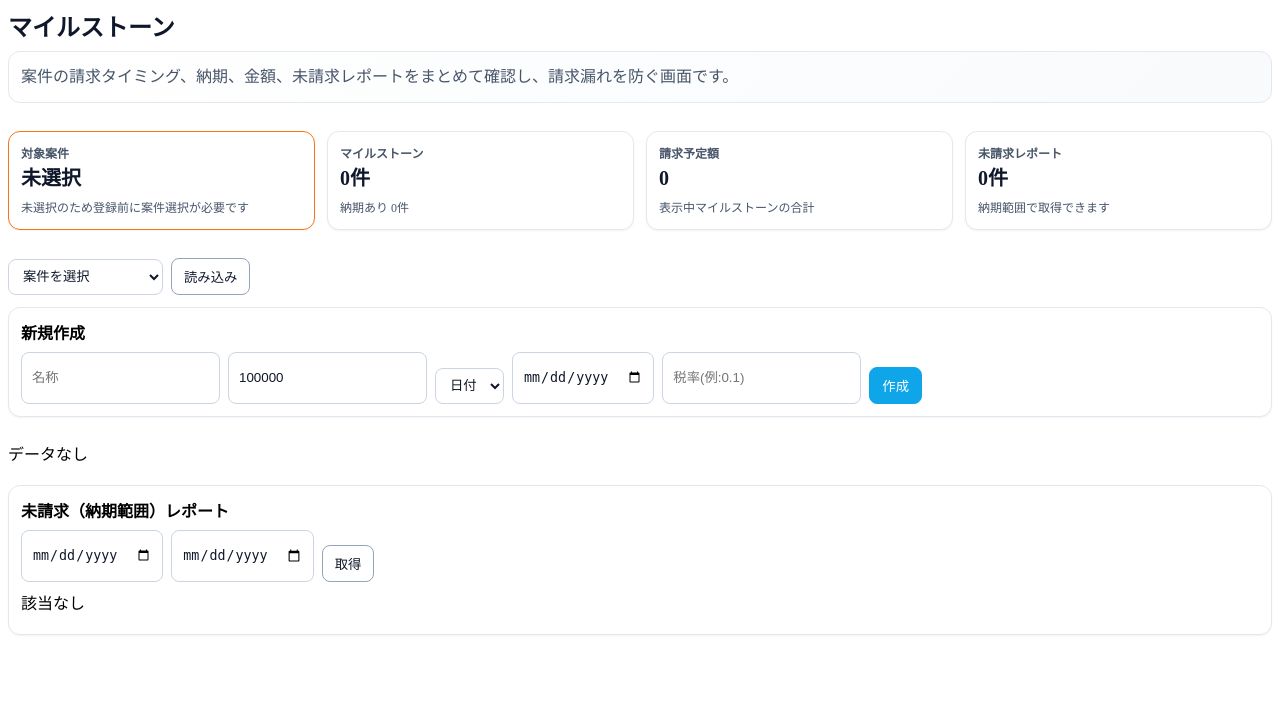
ProjectMilestones › validates required fields before save
The width and height of the screenshot is (1280, 720).
Click the button "作成": x=896, y=385 x1=869 y1=367 x2=922 y2=404
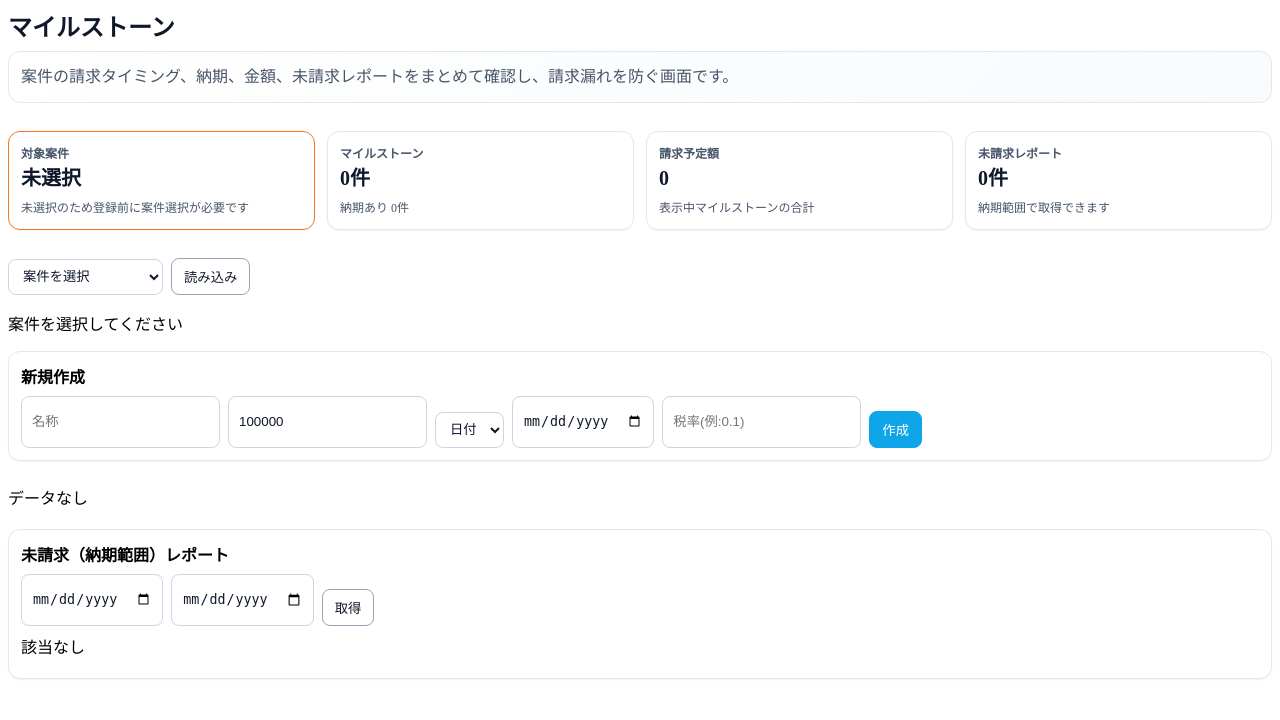
Now the text "案件を選択してください" is shown, box x1=8 y1=316 x2=183 y2=333
Select "P001 / Project One" in the dropdown named "案件選択": x=86, y=277 x1=8 y1=259 x2=163 y2=295
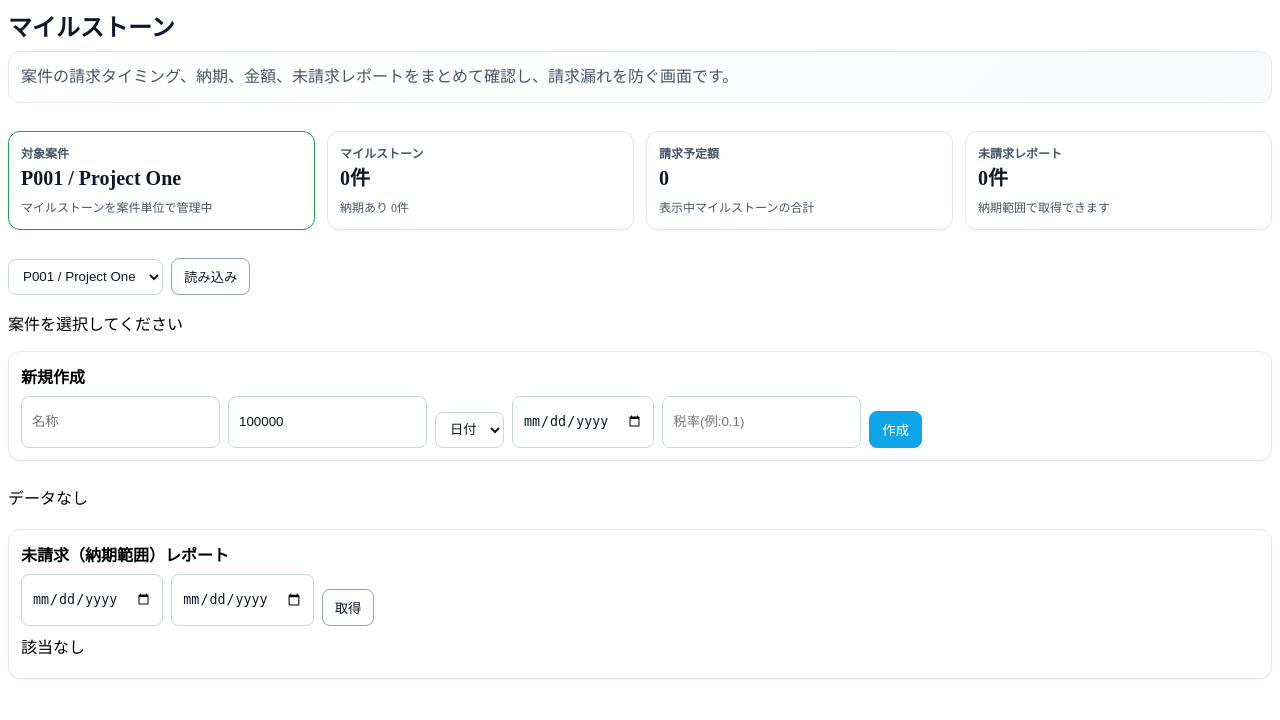
Click the button "作成": x=896, y=429 x1=869 y1=411 x2=922 y2=448
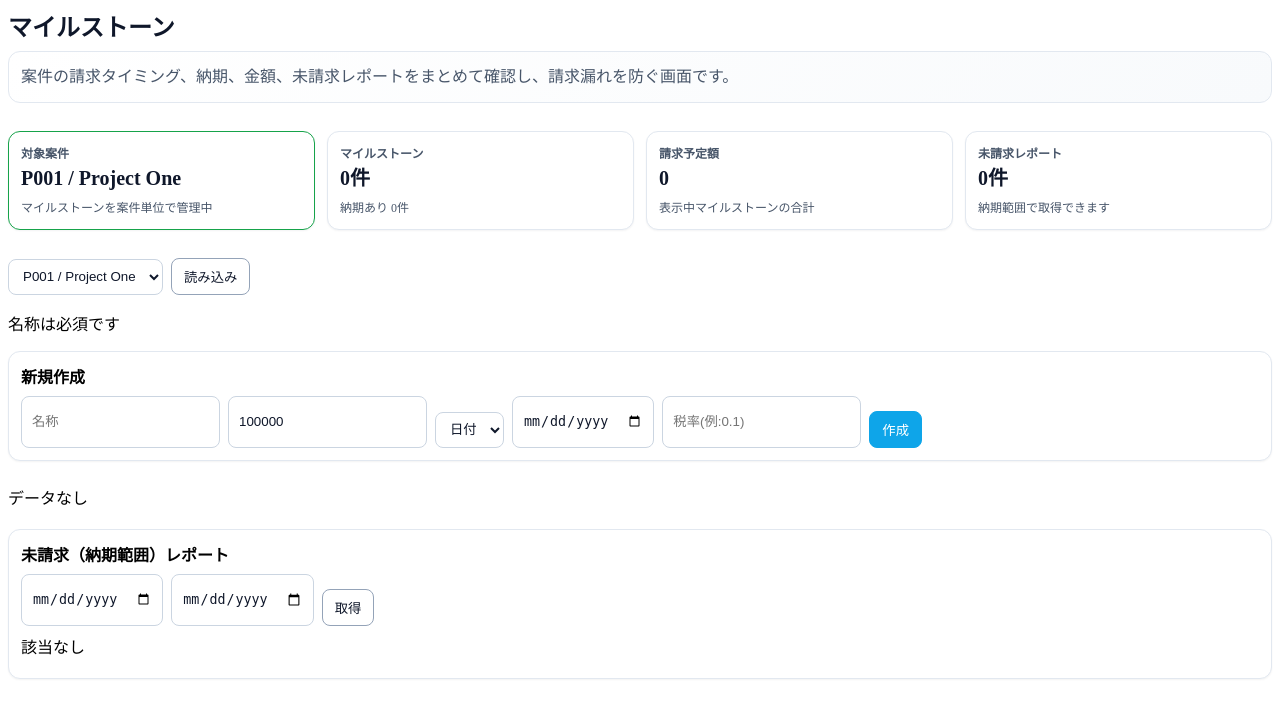
Now the text "名称は必須です" is shown, box x1=8 y1=316 x2=120 y2=333
